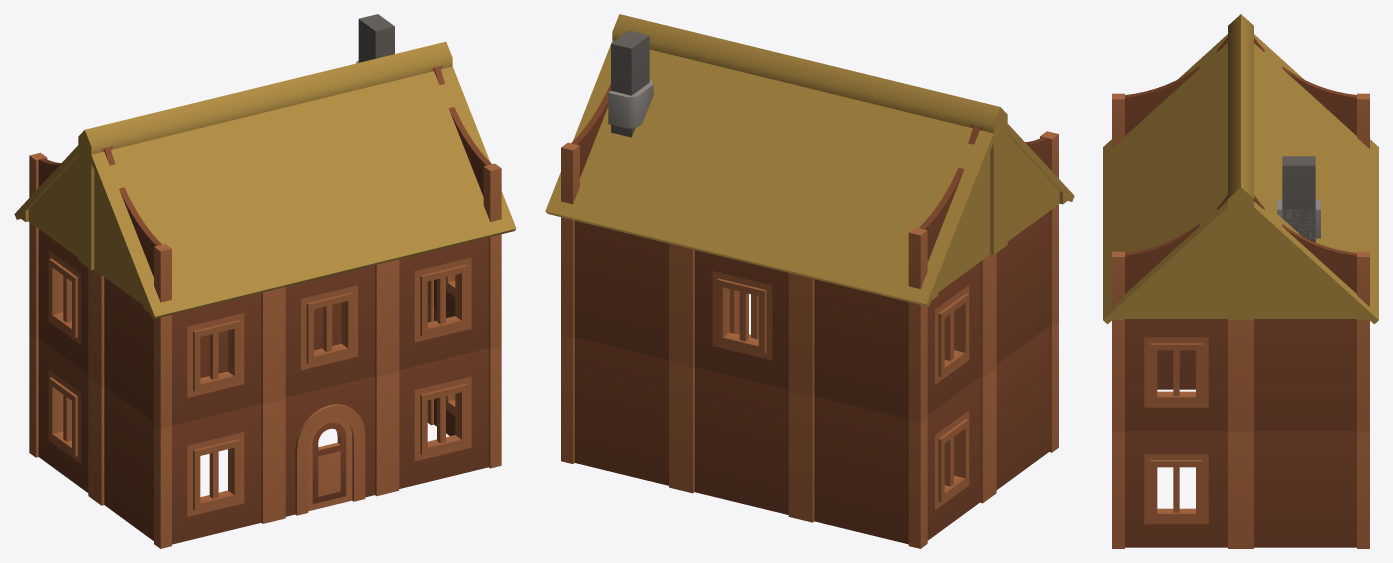
Rendered from maison-vent-2.glb.
The picture shows the model from 3 angles, left to right: view 1: azimuth 30°, elevation 25°; view 2: azimuth 150°, elevation 25°; view 3: azimuth 270°, elevation 25°; orthographic projection. The views are drawn at different scales.
Visible parts, largest first — view 1: wall-wood-window-shutters, roof-high; view 2: wall-wood-window-shutters, roof-high; view 3: wall-wood-window-shutters, roof-high.
Boxes of the visible parts, box(x1,y1,x2,y2) form: wall-wood-window-shutters: box(29, 14, 501, 548); roof-high: box(14, 41, 516, 319); wall-wood-window-shutters: box(561, 30, 1058, 548); roof-high: box(545, 14, 1074, 306); wall-wood-window-shutters: box(1112, 37, 1369, 548); roof-high: box(1103, 14, 1378, 324).
Size of the model in its own units: 9.54 by 9.6 by 6.42.
2 materials, 1 textured.
